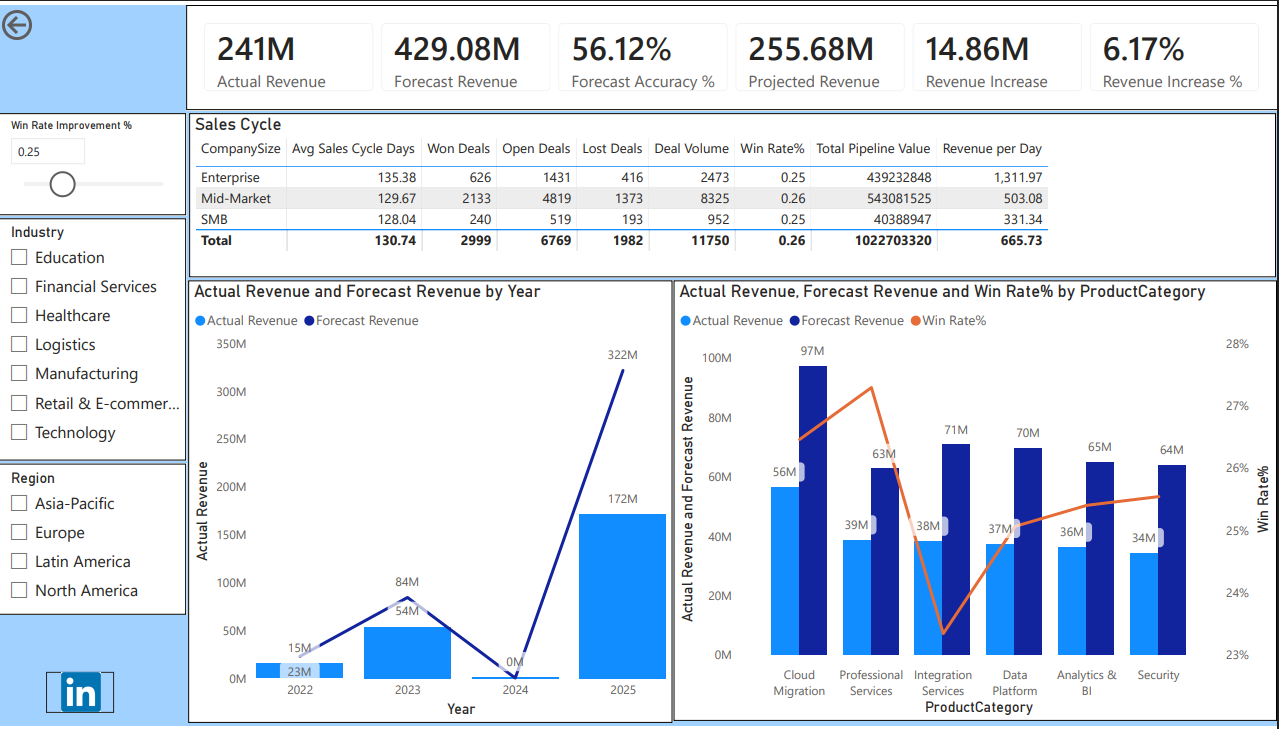

This screenshot's page, from the dashboard's own definition file:
{"tool":"powerbi","page":{"name":"Forecast","canvas":[1280,720],"ordinal":2},"visuals":[{"type":"actionButton","box":[0,0,100,40],"z":0},{"type":"image","box":[49.3,666.5,68.4,41.4],"z":1000},{"type":"slicer","fields":{"Values":["Win Rate Target.Win Rate Target"]},"box":[0,108.2,189.3,101.8],"z":2000},{"type":"lineClusteredColumnComboChart","fields":{"Category":["DimDate.Date.Variation.Date Hierarchy.Year","DimDate.Date.Variation.Date Hierarchy.Month"],"Y":["FactDeals.Won Revenue"],"Y2":["FactDeals.Forecast Revenue"]},"box":[190.9,275.2,483.5,442.2],"z":3000},{"type":"cardVisual","fields":{"Data":["FactDeals.Won Revenue","FactDeals.Forecast Revenue","FactDeals.Forecast Accuracy %","Win Rate Target.Projected Revenue","Win Rate Target.Revenue Increase","Win Rate Target.Revenue Increase %"]},"box":[189.3,0,1091.2,105],"z":4000},{"type":"tableEx","title":"Sales Cycle","fields":{"Values":["DimCompany.CompanySize","FactDeals.Avg Sales Cycle Days","FactDeals.Won Deals","FactDeals.Open Deals","FactDeals.Lost Deals","FactDeals.Deal Volume","FactDeals.Win Rate%","FactDeals.Total Pipeline Value","FactDeals.Revenue per Day"]},"box":[192.5,108.2,1086.4,163.8],"z":5000},{"type":"lineClusteredColumnComboChart","fields":{"Category":["FactDeals.ProductCategory"],"Y2":["FactDeals.Win Rate%"],"Y":["FactDeals.Won Revenue","FactDeals.Forecast Revenue"]},"box":[676,275.2,602.8,440],"z":6000},{"type":"slicer","fields":{"Values":["DimCompany.Industry"]},"box":[0,213.1,189.3,241.8],"z":7000},{"type":"slicer","fields":{"Values":["DimCompany.Region"]},"box":[0,458.1,189.3,151.1],"z":8000}]}

Visuals, with their boxes in screenshot pixels (x1, y1, x2, y2), scaled from the page's 1280x720 canvas onto the 1279x729 screenshot:
actionButton: BBox(0, 0, 100, 40)
image: BBox(49, 675, 118, 717)
slicer - Win Rate Target.Win Rate Target: BBox(0, 110, 189, 213)
lineClusteredColumnComboChart - DimDate.Date.Variation.Date Hierarchy.Year x DimDate.Date.Variation.Date Hierarchy.Month: BBox(191, 279, 674, 726)
cardVisual - FactDeals.Won Revenue x FactDeals.Forecast Revenue: BBox(189, 0, 1278, 106)
"Sales Cycle" tableEx: BBox(192, 110, 1278, 275)
lineClusteredColumnComboChart - FactDeals.ProductCategory x FactDeals.Win Rate%: BBox(675, 279, 1278, 724)
slicer - DimCompany.Industry: BBox(0, 216, 189, 461)
slicer - DimCompany.Region: BBox(0, 464, 189, 617)
